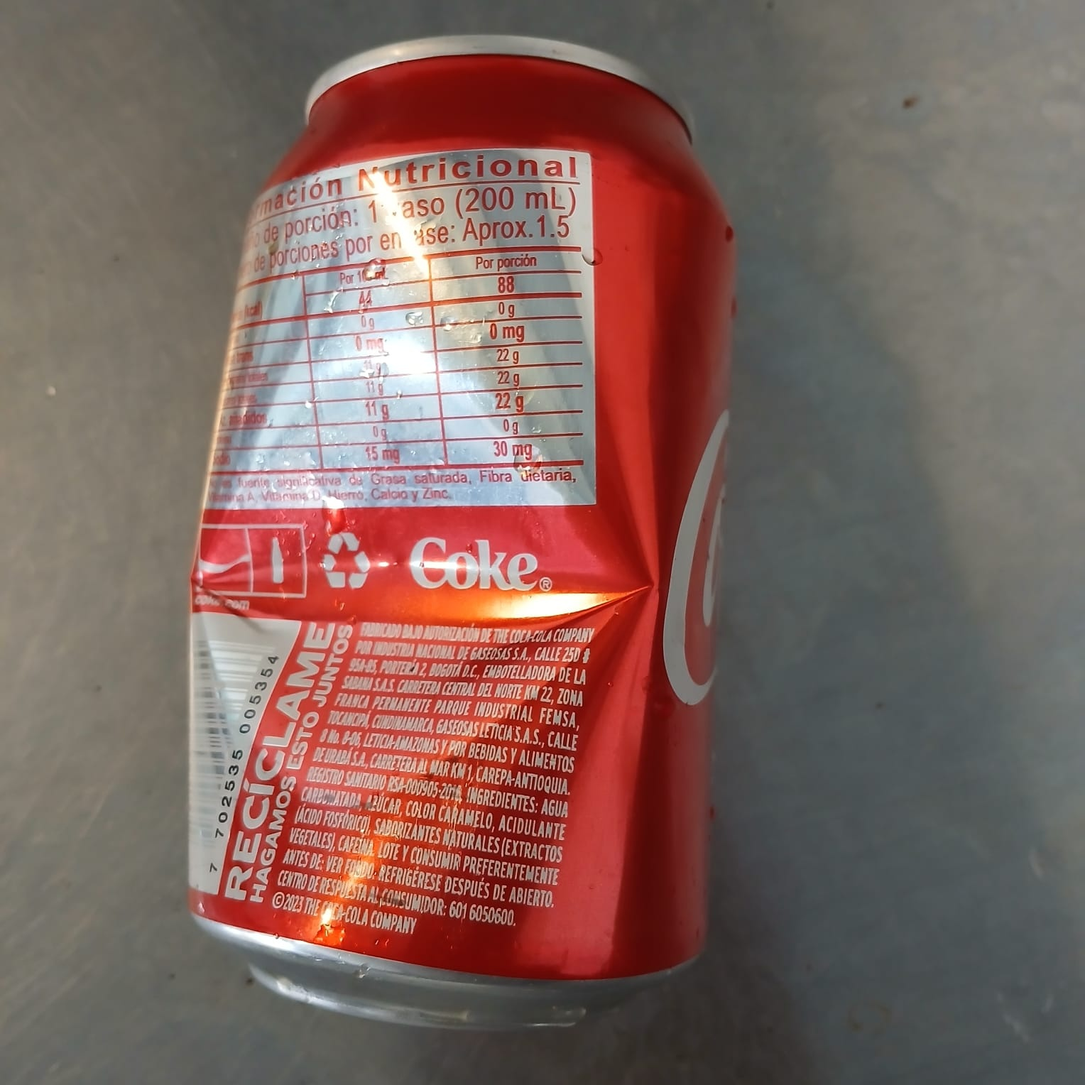Metal: (183, 36, 784, 1029)
